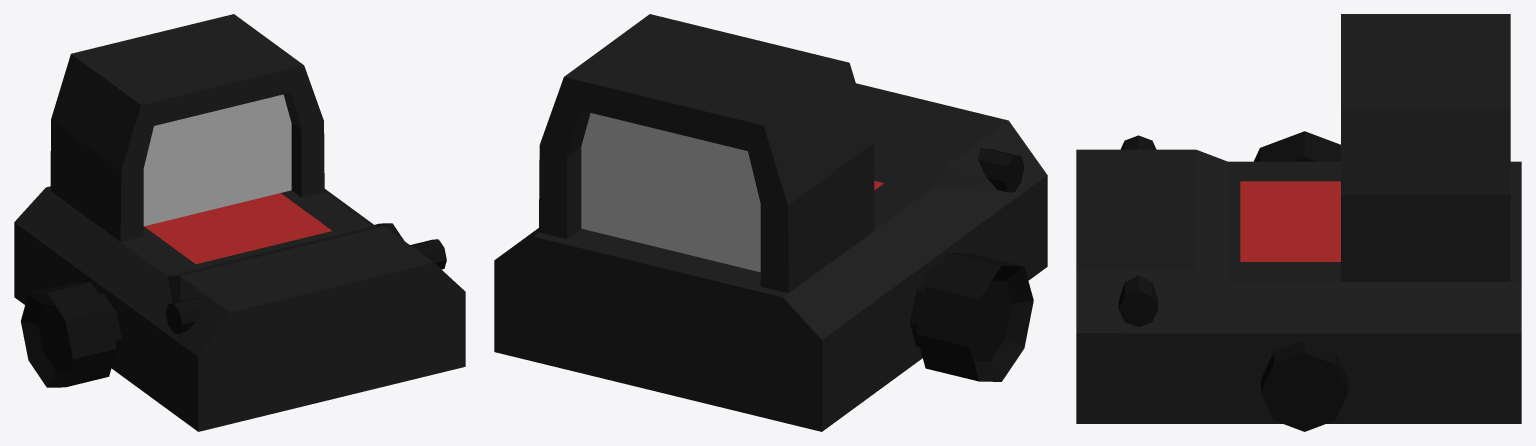
The model's file is Reflex Sight.glb.
The picture shows the model from 3 angles, left to right: view 1: azimuth 30°, elevation 25°; view 2: azimuth 150°, elevation 25°; view 3: azimuth 270°, elevation 25°; orthographic projection. The views are drawn at different scales.
Parts seen in each view (by area): view 1: Reflex_East; view 2: Reflex_East; view 3: Reflex_East.
Part boxes in pixels (<box>): Reflex_East: <box>14,14,465,431</box>; Reflex_East: <box>494,14,1047,431</box>; Reflex_East: <box>1076,14,1521,431</box>.
Bounding box in the file's own units: 0.0618 × 0.0418 × 0.057.
